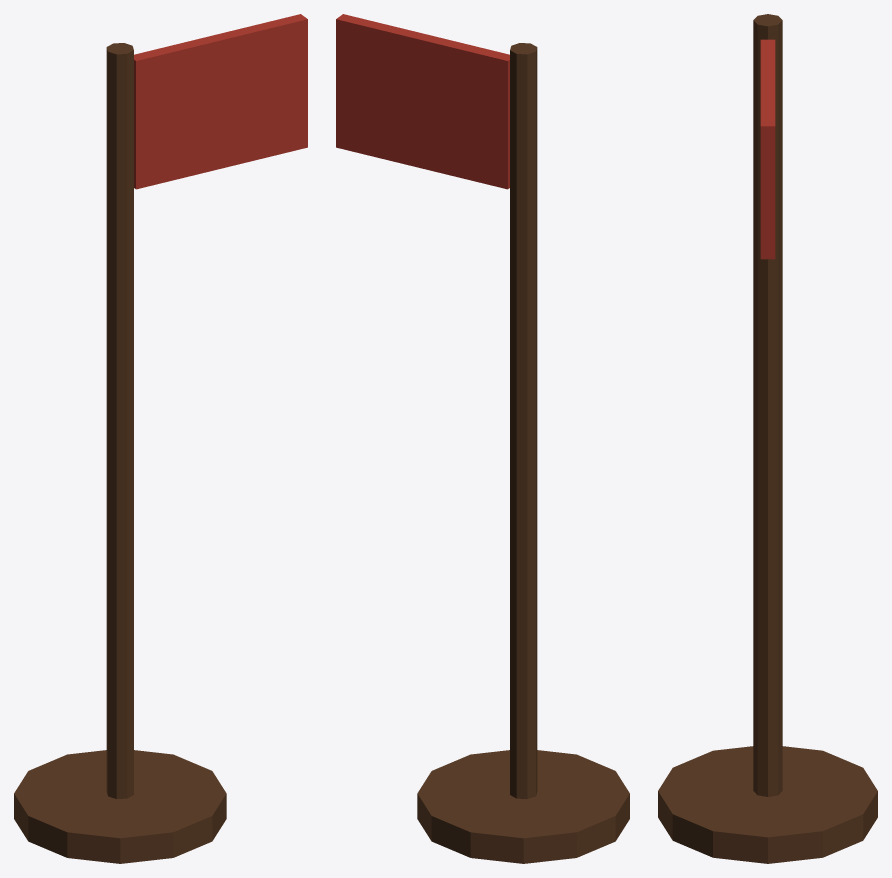
The model's file is goal_flag.glb.
The picture shows the model from 3 angles, left to right: view 1: azimuth 30°, elevation 25°; view 2: azimuth 150°, elevation 25°; view 3: azimuth 270°, elevation 25°; orthographic projection. The views are drawn at different scales.
Visible parts, largest first — view 1: goal_flag; view 2: goal_flag; view 3: goal_flag.
Boxes of the visible parts, <box> form: goal_flag: <box>14,14,307,863</box>; goal_flag: <box>336,14,629,863</box>; goal_flag: <box>658,14,877,863</box>.
Bounding box in the file's own units: 0.45 × 1.2 × 0.3.
